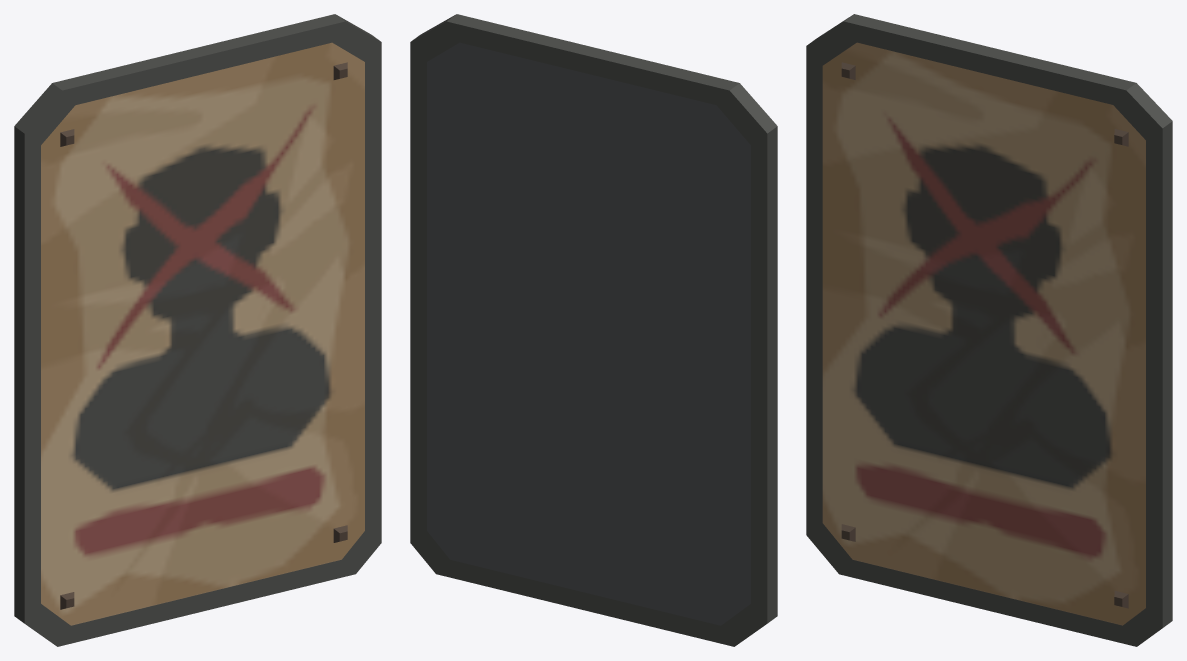
Rendered from SM_Prop_Sign_Poster_24.fbx.
3 renders of one model, left to right at view 1: azimuth 30°, elevation 25°; view 2: azimuth 150°, elevation 25°; view 3: azimuth 330°, elevation 25°, orthographic.
Visible parts, largest first — view 1: SM_Prop_Sign_Poster_24; view 2: SM_Prop_Sign_Poster_24; view 3: SM_Prop_Sign_Poster_24.
Part boxes in pixels (<box>): SM_Prop_Sign_Poster_24: <box>14,14,381,646</box>; SM_Prop_Sign_Poster_24: <box>410,14,777,646</box>; SM_Prop_Sign_Poster_24: <box>806,14,1172,646</box>.
Size of the model in its own units: 45.7 by 67.89 by 2.97.
